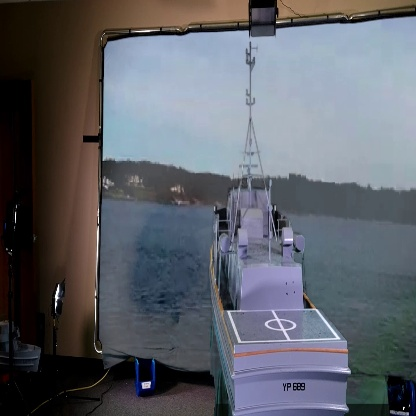YP689: (208, 61, 352, 416)
